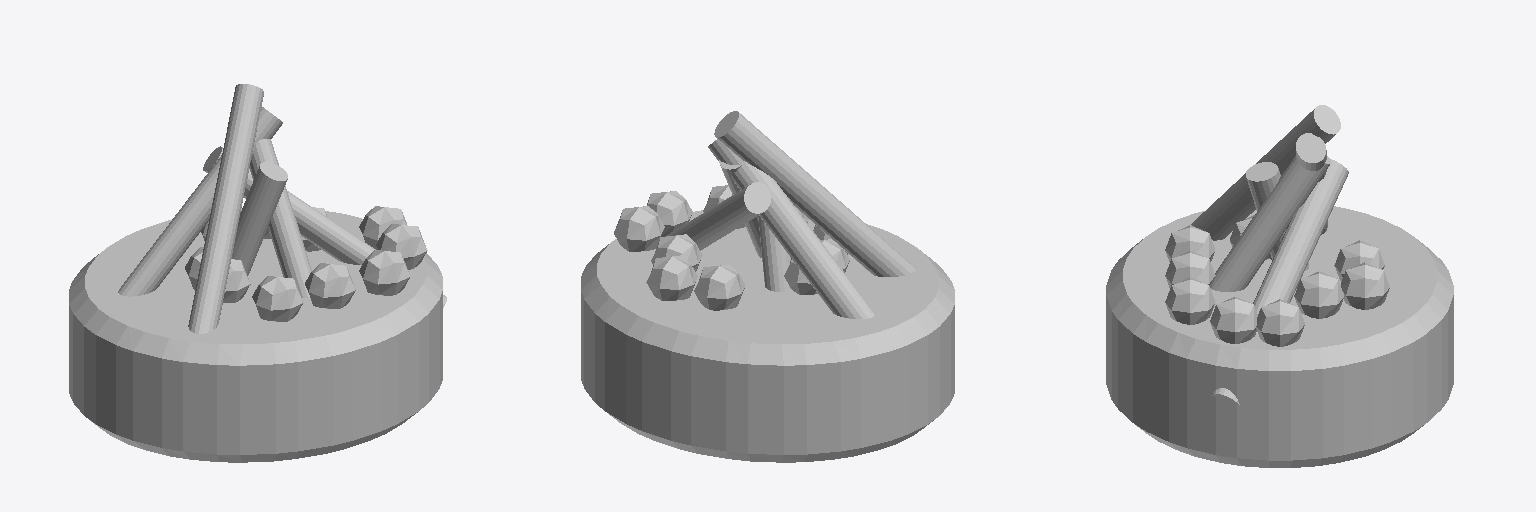
File: camp fire 1.obj
3 views of the same model, side by side, from view 1: azimuth 30°, elevation 25°; view 2: azimuth 150°, elevation 25°; view 3: azimuth 270°, elevation 25° (orthographic).
Parts seen in each view (by area): view 1: pCylinder10; view 2: pCylinder10; view 3: pCylinder10.
Boxes of the visible parts, box(x1,y1,x2,y2) form: pCylinder10: box(69, 84, 446, 462); pCylinder10: box(581, 111, 954, 462); pCylinder10: box(1106, 105, 1453, 467).
Size of the model in its own units: 7.59 by 6.8 by 6.88.